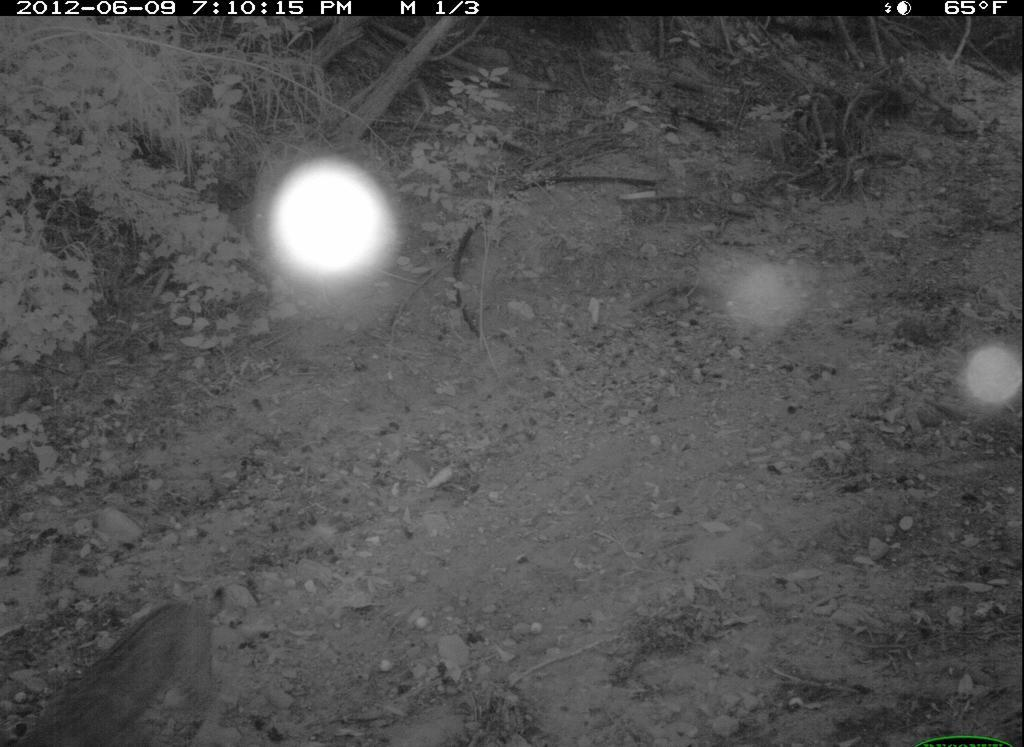bobcat: (20, 585, 226, 745)
